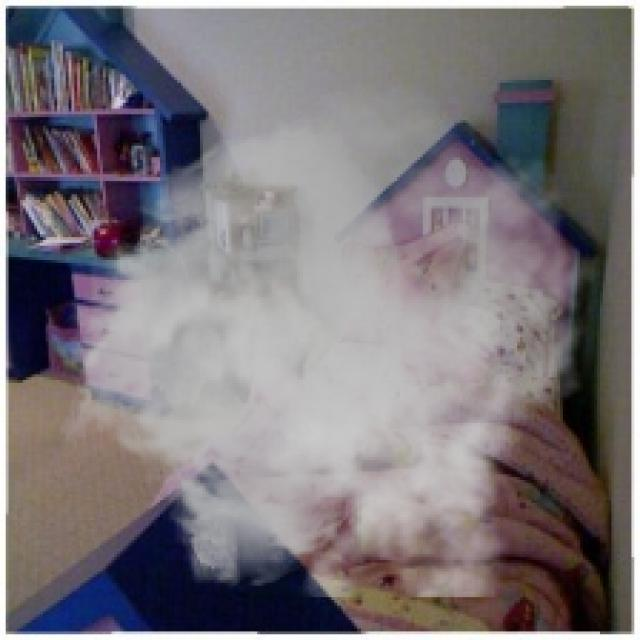Smoke: (57, 80, 600, 597)
